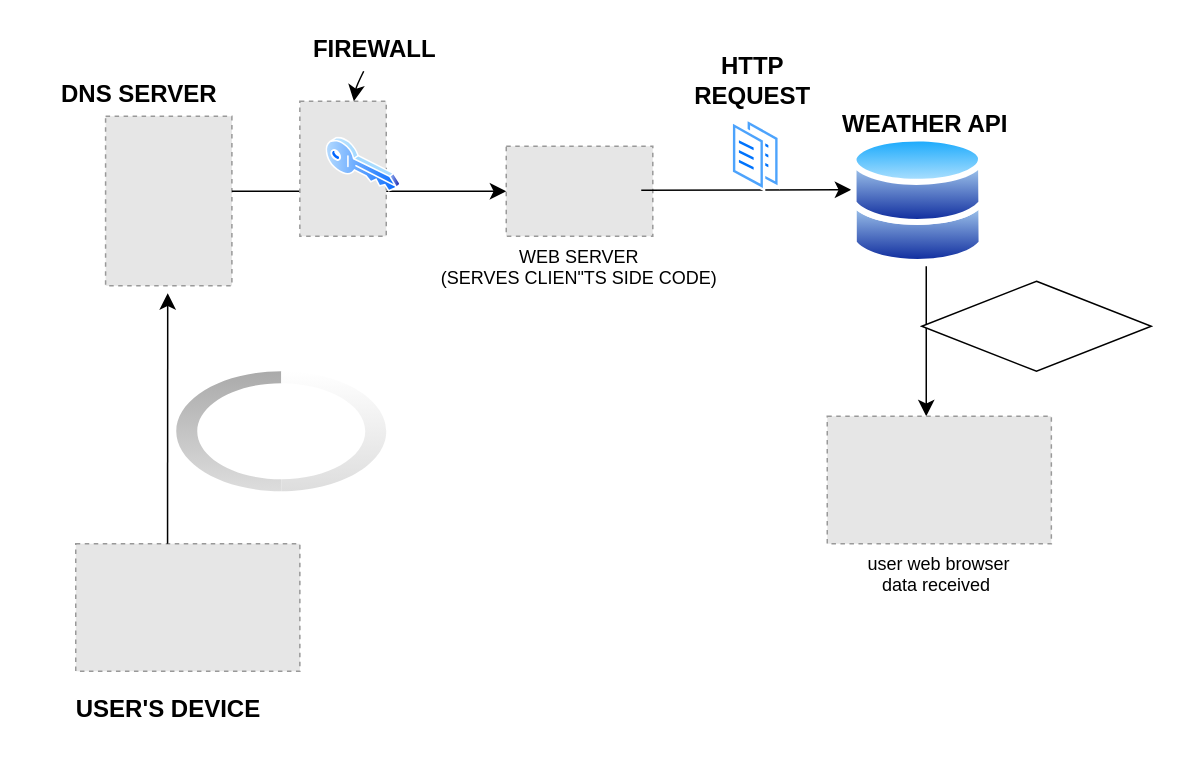
Image size: 1178x771. Some labels were removed from this diagram. Grey dashed boxes stand in for pictures. The centre of each missing label's shape, as x and y in pixels:
DNS RESOLUTION: (x=280, y=430)
weather data packets: (x=1035, y=325)
